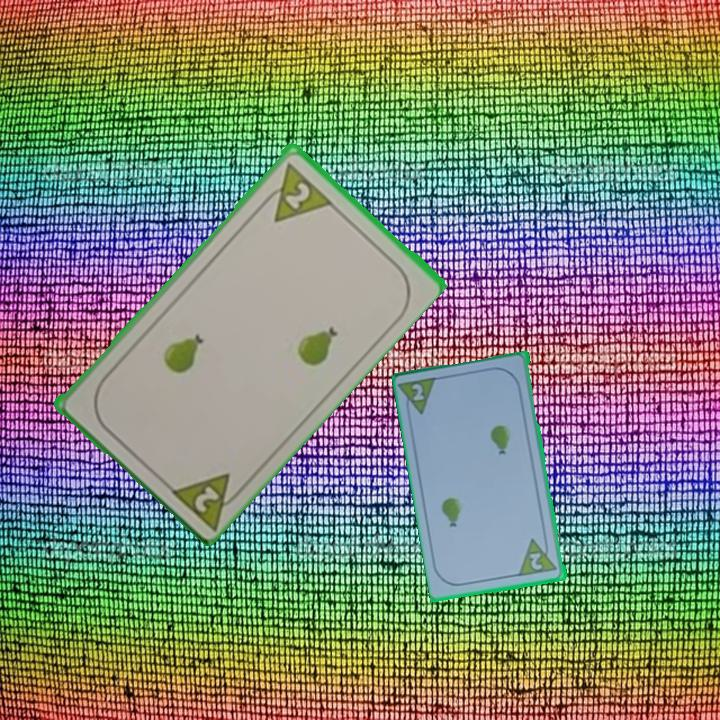2p: (164, 468, 249, 531), (255, 158, 334, 225), (408, 380, 428, 404), (526, 549, 545, 573)
